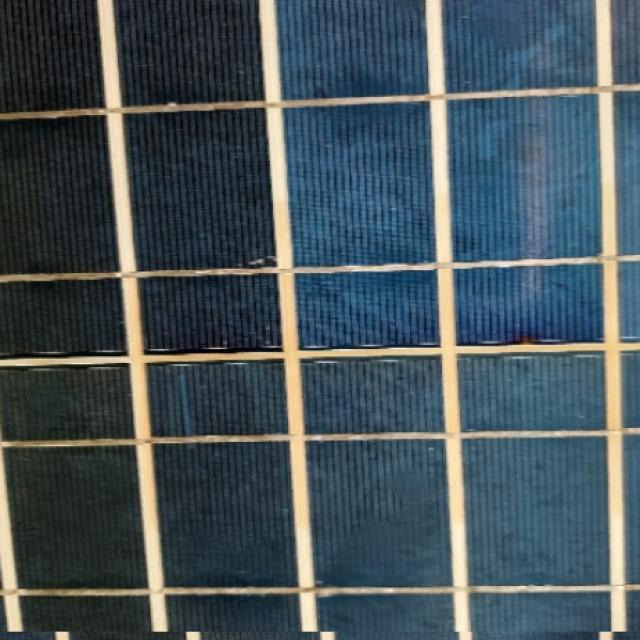Clean: (0, 0, 640, 632)
